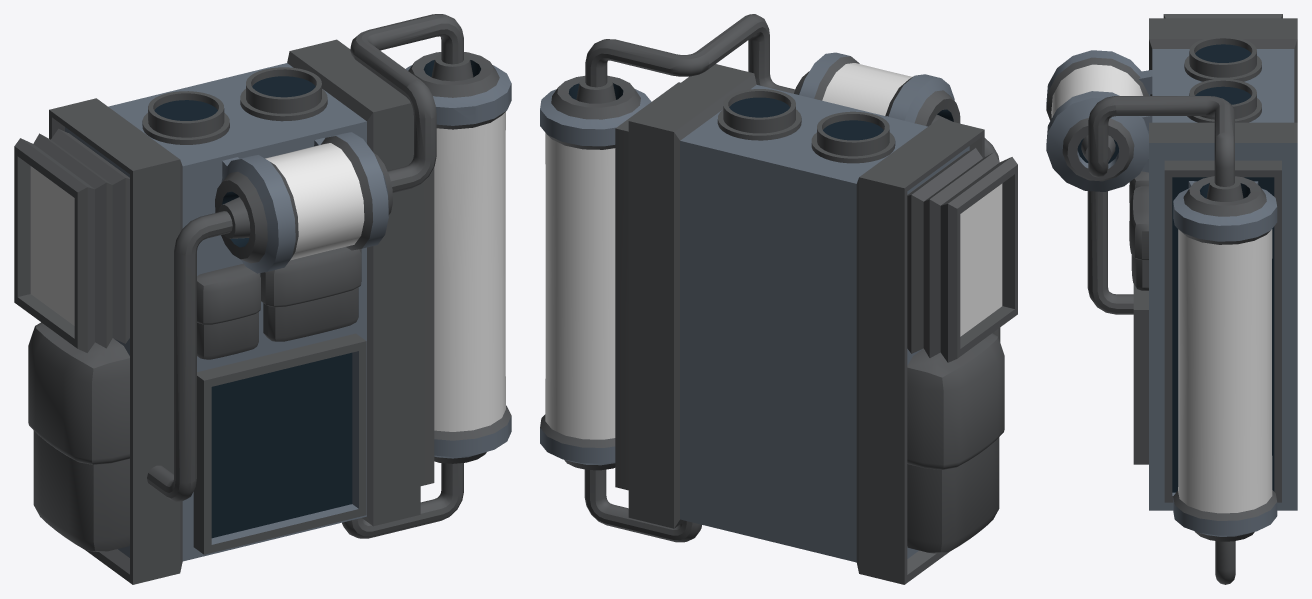
Rendered from BackpackAndTubes.fbx.
3 renders of one model, left to right at view 1: azimuth 30°, elevation 25°; view 2: azimuth 150°, elevation 25°; view 3: azimuth 270°, elevation 25°, orthographic. The views are drawn at different scales.
Visible parts, largest first — view 1: Backpack, BackpackTubes; view 2: Backpack, BackpackTubes; view 3: Backpack, BackpackTubes.
Boxes of the visible parts, <box> form: Backpack: <box>14,14,511,584</box>; BackpackTubes: <box>30,112,505,431</box>; Backpack: <box>540,14,1017,584</box>; BackpackTubes: <box>545,63,1002,439</box>; Backpack: <box>1046,14,1297,584</box>; BackpackTubes: <box>1051,64,1272,513</box>.
Bounding box in the file's own units: 232 × 245 × 124.
